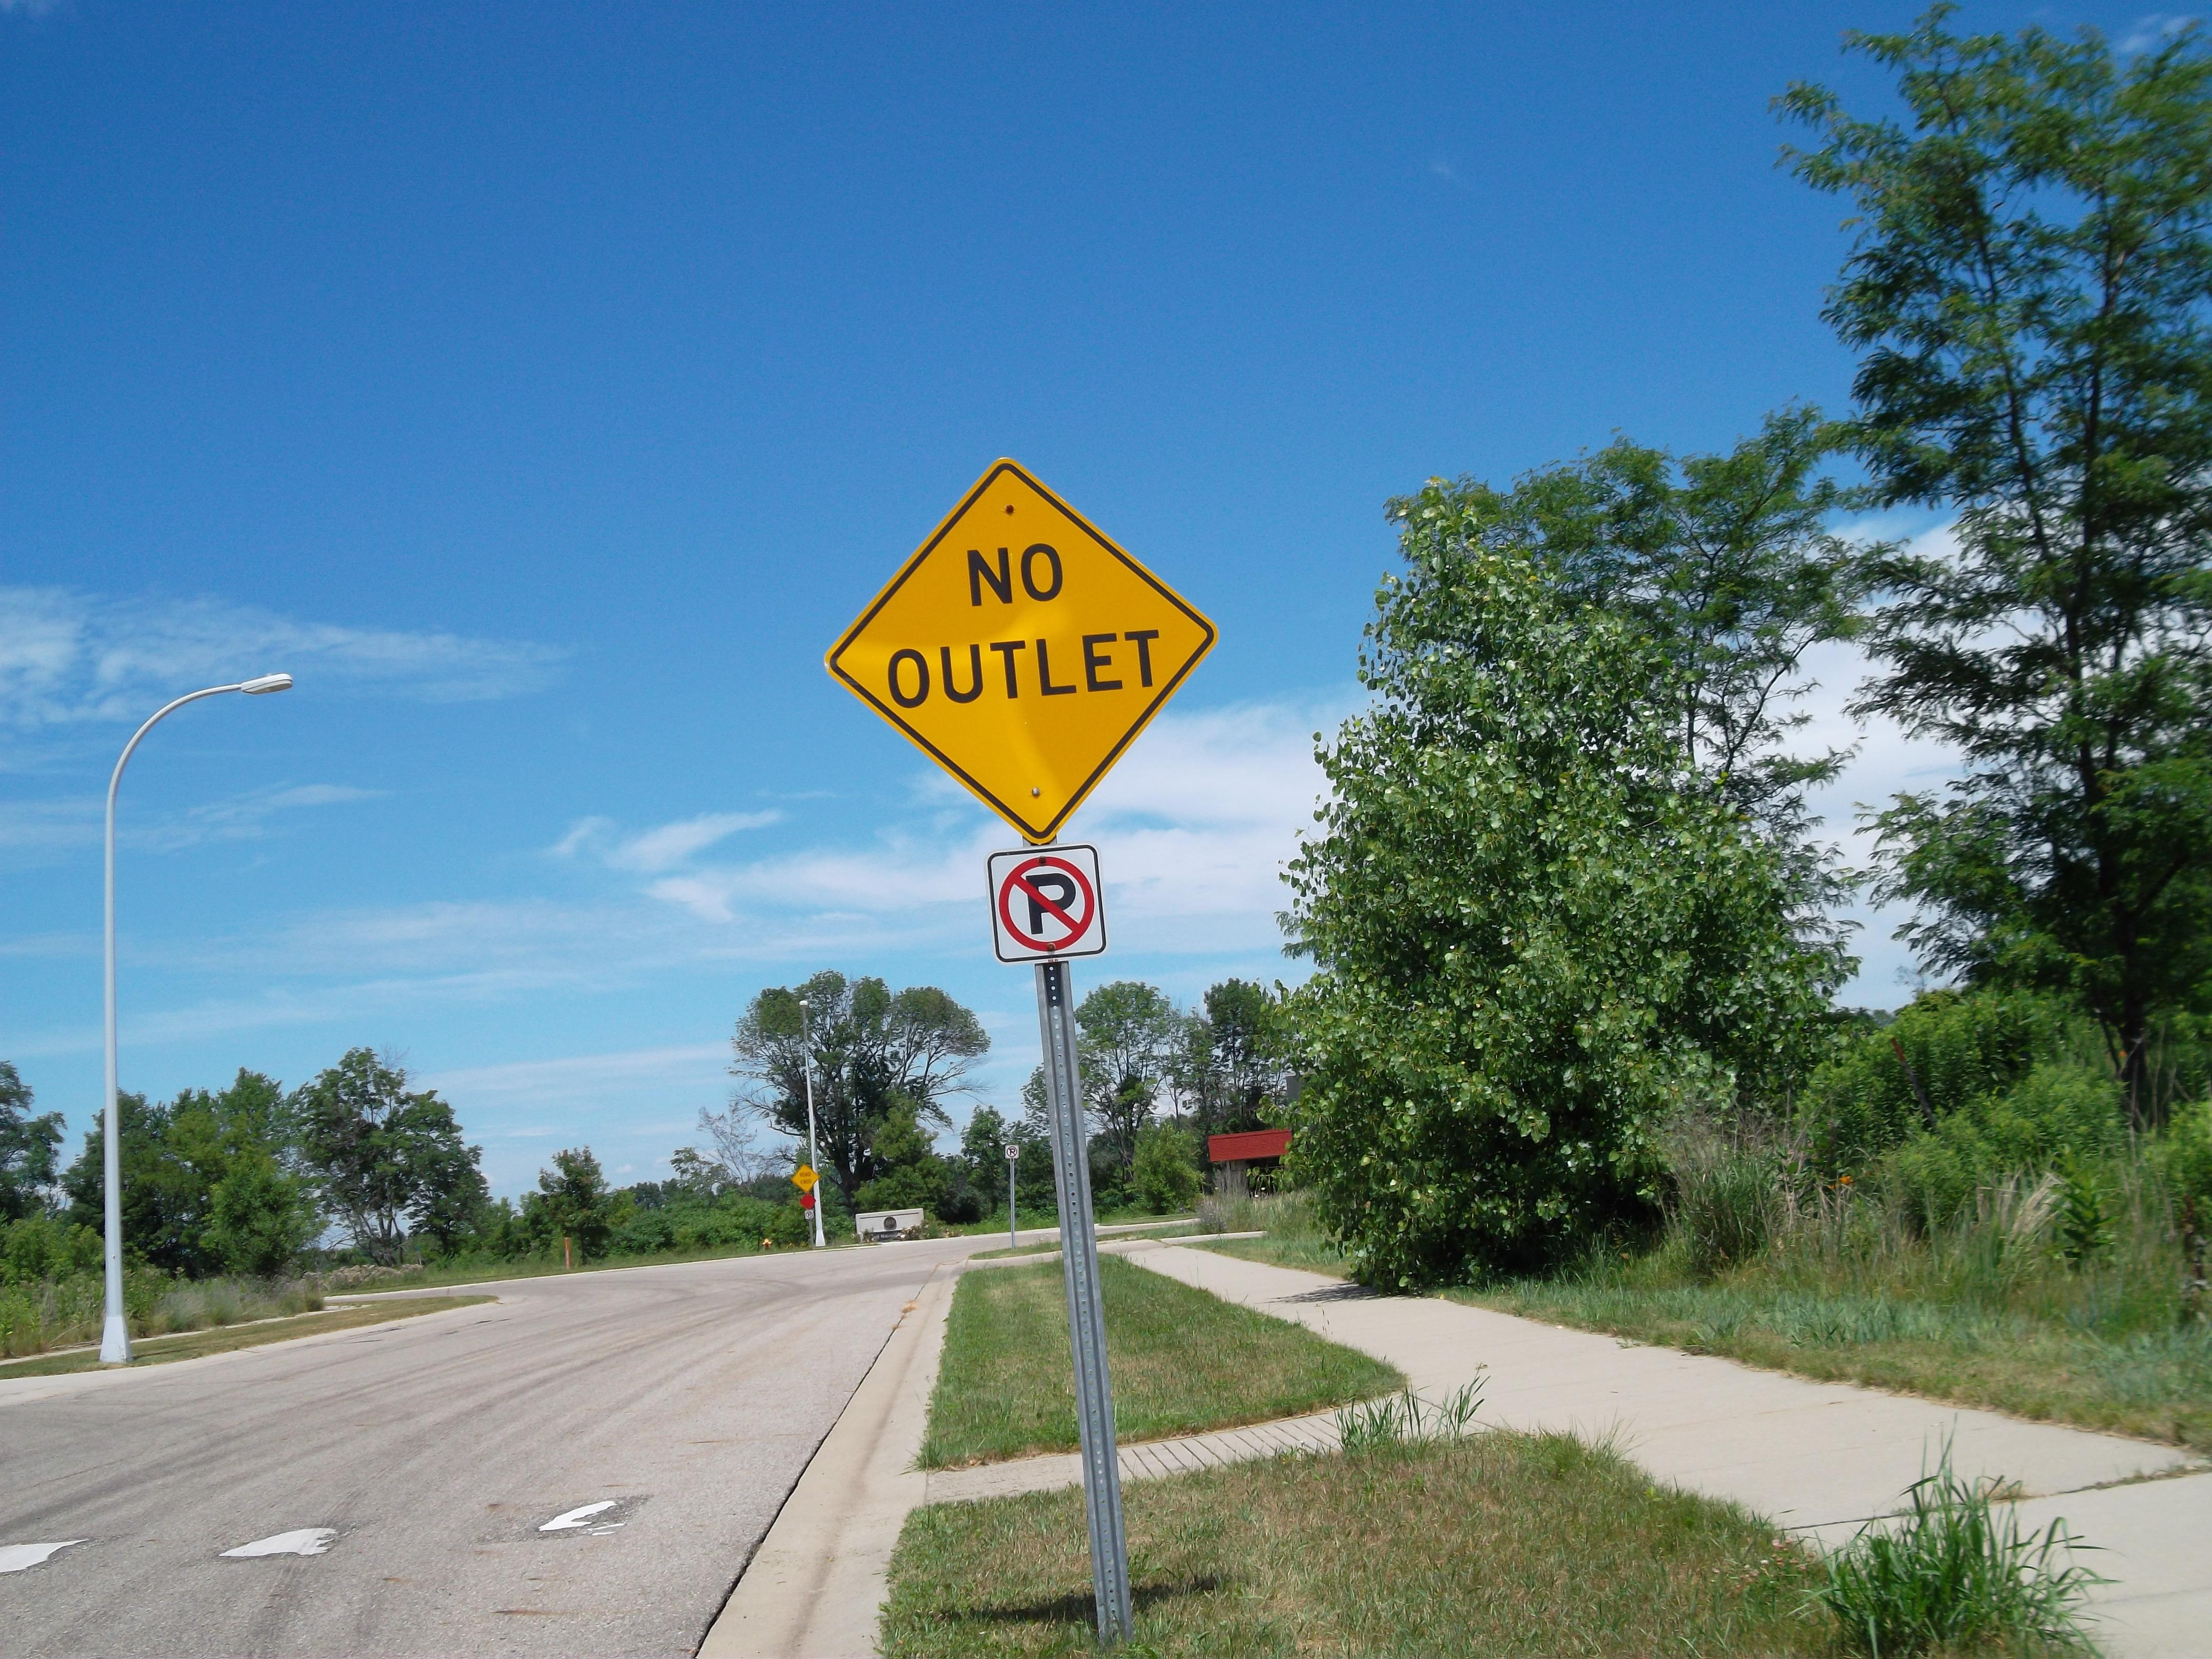regulatory: (989, 845, 1106, 969)
warning: (798, 460, 1228, 840)
